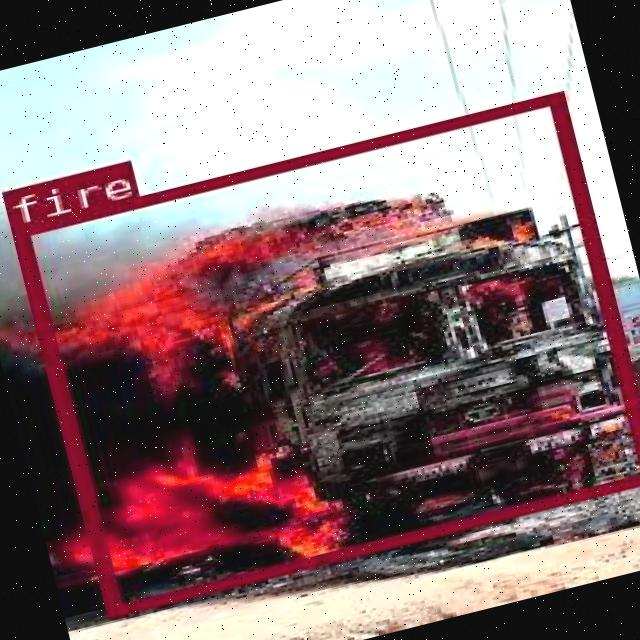fire: (10, 90, 640, 617)
